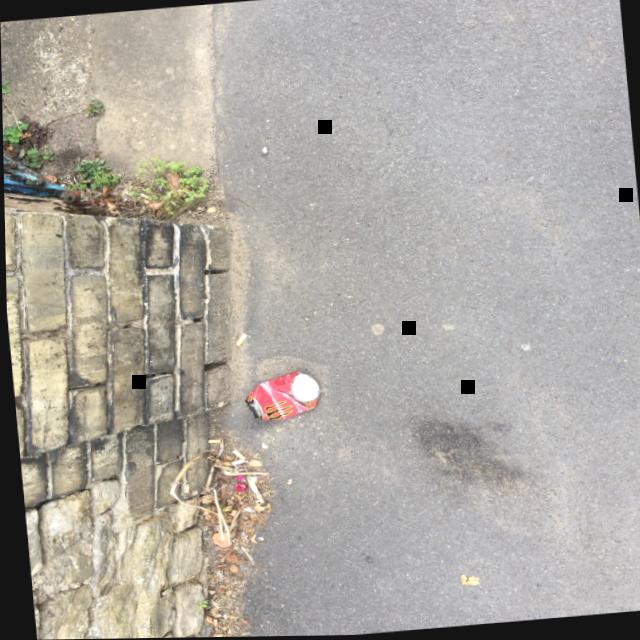Cigarette: (232, 334, 245, 347), (227, 450, 242, 461), (137, 193, 147, 200), (205, 440, 216, 443), (175, 190, 182, 193)
Drink can: (241, 372, 317, 421)
